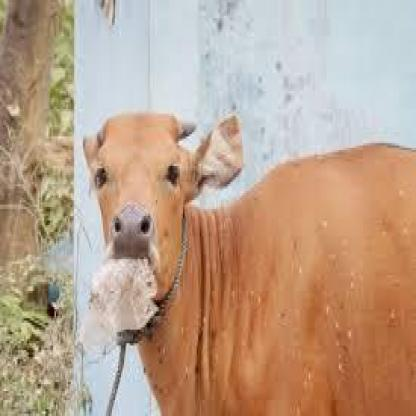cow: (80, 109, 416, 416)
